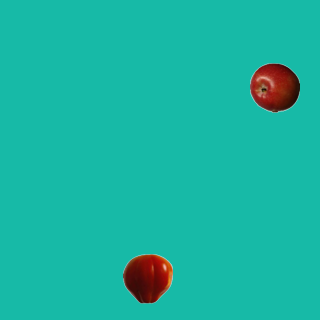Apple Braeburn: (249, 62, 299, 112)
Tomato 1: (122, 253, 172, 303)
